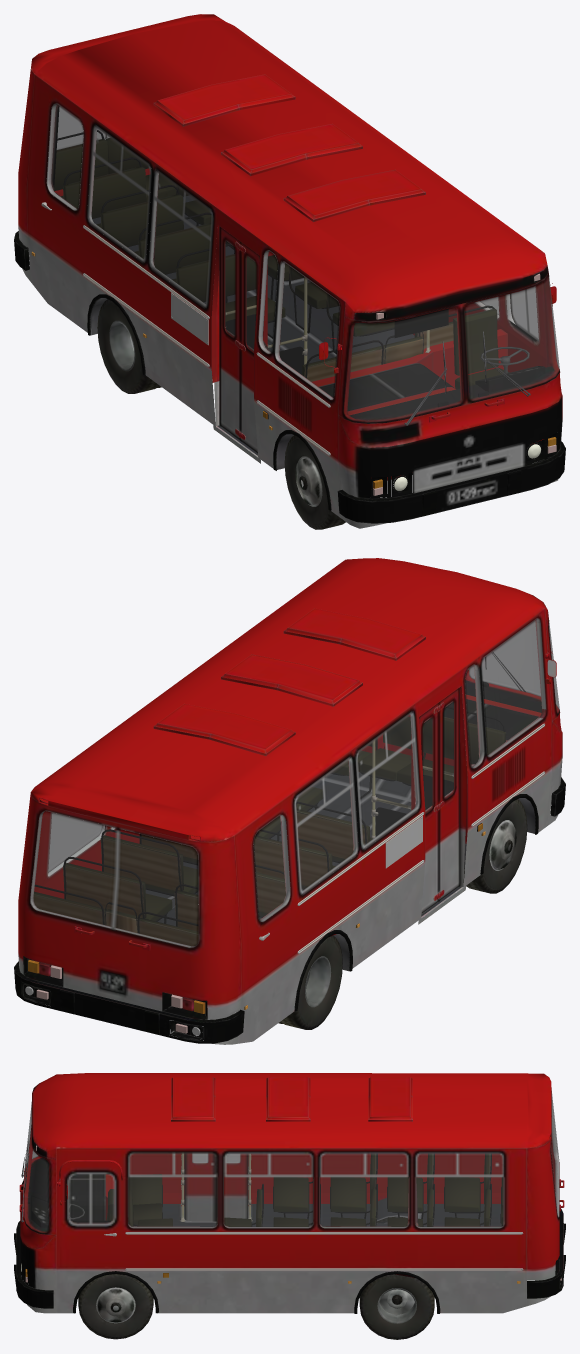
Rendered from paz.glb.
3 views of the same model, one above another, from view 1: azimuth 30°, elevation 25°; view 2: azimuth 150°, elevation 25°; view 3: azimuth 270°, elevation 25° (orthographic). The views are drawn at different scales.
Visible parts, largest first — view 1: Object_4, Object_7, Object_6, Object_3; view 2: Object_4, Object_6, Object_7, Object_3; view 3: Object_4, Object_6, Object_7, Object_3.
Part boxes in pixels (bbox=[...]): Object_4: bbox=[14, 14, 565, 529]; Object_7: bbox=[46, 104, 559, 422]; Object_6: bbox=[49, 103, 554, 480]; Object_3: bbox=[31, 202, 556, 516]; Object_4: bbox=[14, 558, 565, 1044]; Object_6: bbox=[33, 620, 544, 946]; Object_7: bbox=[30, 618, 559, 1009]; Object_3: bbox=[23, 652, 556, 1037]; Object_4: bbox=[16, 1073, 563, 1339]; Object_6: bbox=[28, 1153, 504, 1277]; Object_7: bbox=[24, 1101, 559, 1233]; Object_3: bbox=[14, 1134, 565, 1303].
Bounding box in the file's own units: 2.6 × 2.89 × 6.93.
4 materials, 3 textured.
